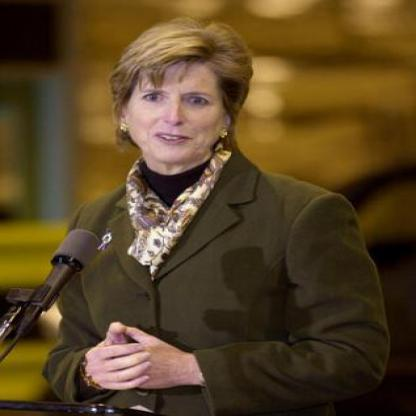face: (127, 36, 231, 166)
